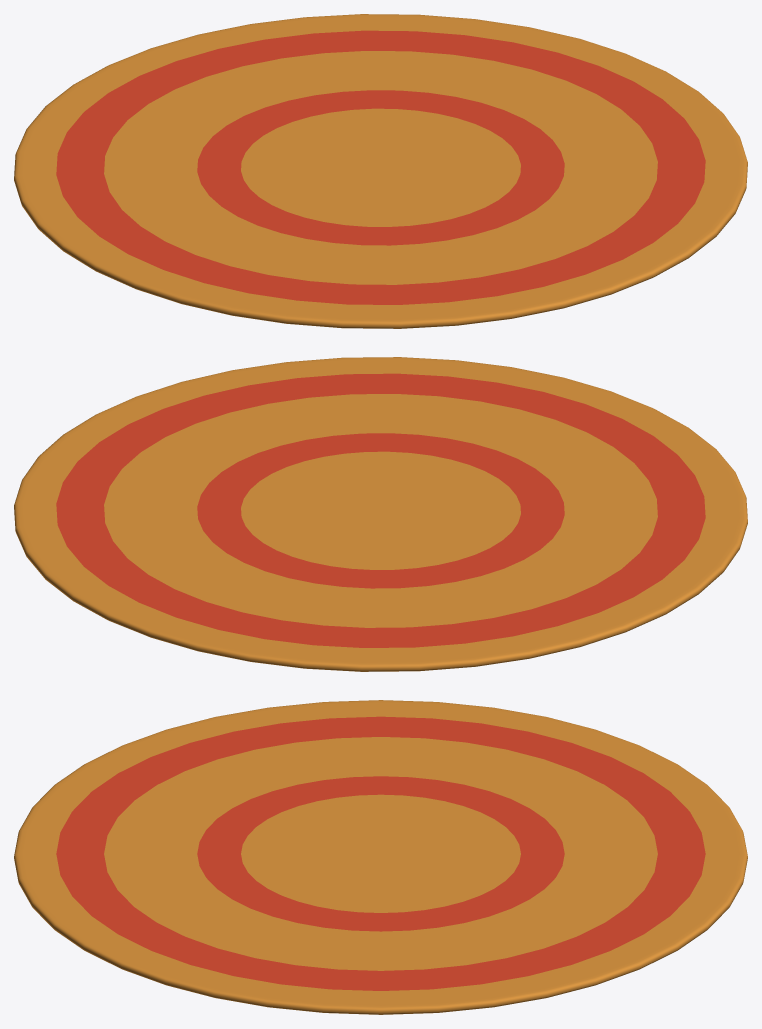
The model's file is Carpet.FBX.
3 renders of one model, top to bottom at view 1: azimuth 30°, elevation 25°; view 2: azimuth 150°, elevation 25°; view 3: azimuth 270°, elevation 25°, orthographic.
Parts seen in each view (by area): view 1: Carpet; view 2: Carpet; view 3: Carpet.
Boxes of the visible parts, x1=… form: Carpet: x1=14, y1=14, x2=747, y2=328; Carpet: x1=14, y1=357, x2=747, y2=671; Carpet: x1=14, y1=700, x2=747, y2=1014.
Bounding box in the file's own units: 61.1 × 0.6481 × 61.1.
